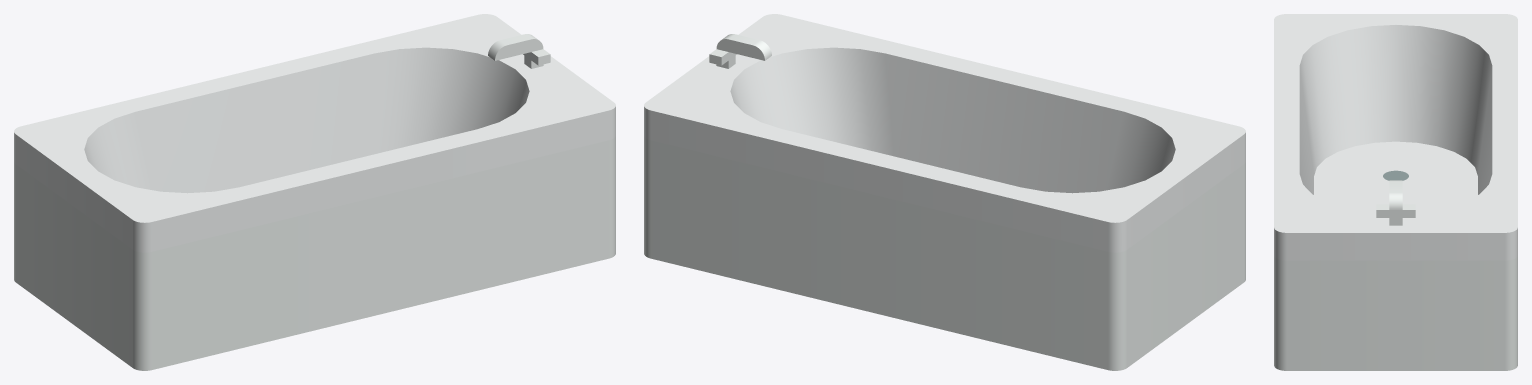
Rendered from furn_ibath.glb.
3 renders of one model, left to right at view 1: azimuth 30°, elevation 25°; view 2: azimuth 150°, elevation 25°; view 3: azimuth 270°, elevation 25°, orthographic. The views are drawn at different scales.
Visible parts, largest first — view 1: bathtub(Clone); view 2: bathtub(Clone); view 3: bathtub(Clone).
Part boxes in pixels (<box>): bathtub(Clone): <box>14,14,615,370</box>; bathtub(Clone): <box>644,14,1245,370</box>; bathtub(Clone): <box>1274,14,1517,370</box>.
Bounding box in the file's own units: 1.19 × 0.42 × 0.56.
1 material, 1 textured.
